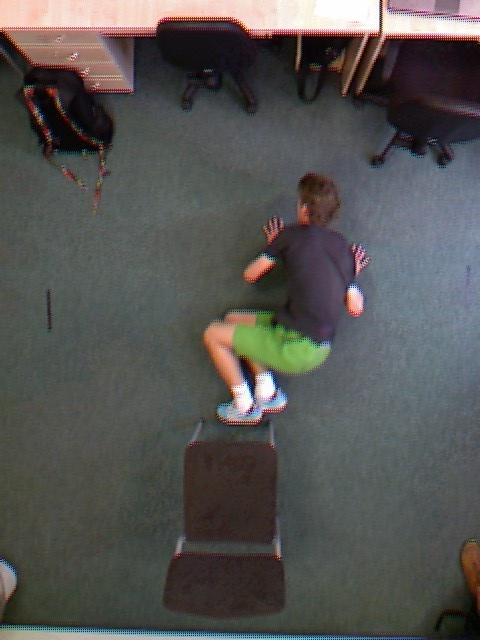fall: (187, 179, 386, 419)
